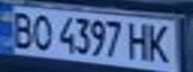3: (72, 16, 90, 56)
4: (54, 14, 75, 53)
7: (103, 18, 127, 58)
9: (87, 17, 109, 56)
B: (3, 9, 39, 50)
H: (124, 19, 154, 62)
K: (145, 20, 178, 64)
O: (27, 11, 57, 52)
